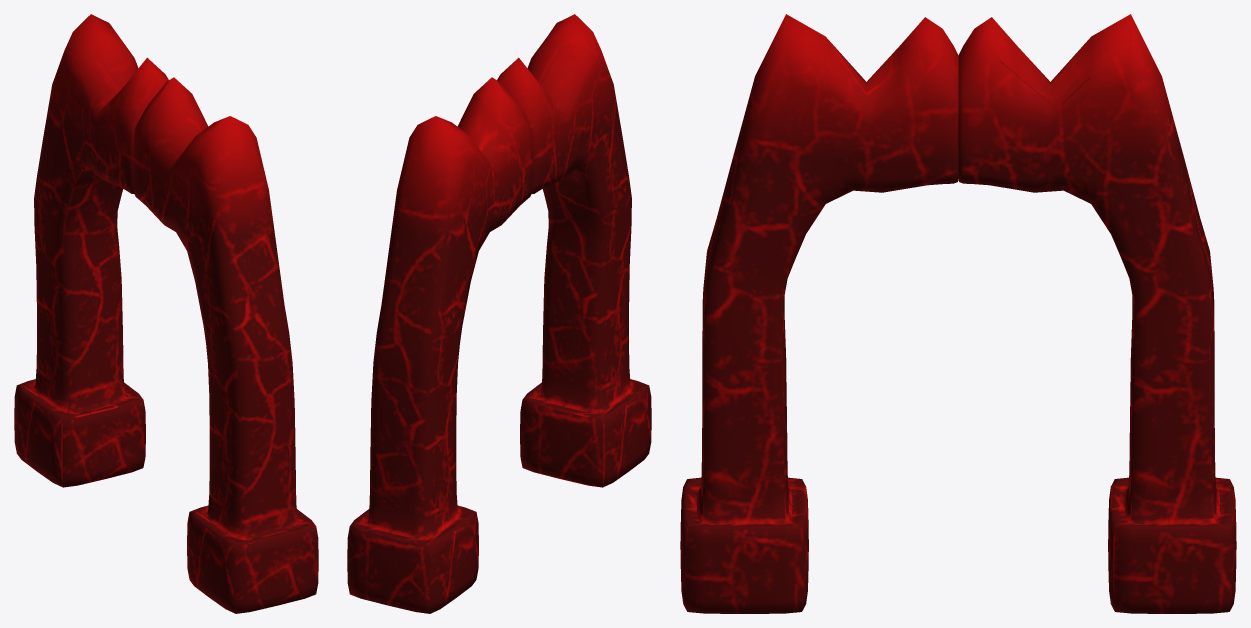
Rendered from HellGate.fbx.
3 views of the same model, side by side, from view 1: azimuth 30°, elevation 25°; view 2: azimuth 150°, elevation 25°; view 3: azimuth 270°, elevation 25° (orthographic). The views are drawn at different scales.
Visible parts, largest first — view 1: HellGate; view 2: HellGate; view 3: HellGate.
Boxes of the visible parts, x1,y1,x2,y2 form: HellGate: (14,14,318,613); HellGate: (347,14,651,613); HellGate: (680,14,1236,613).
Bounding box in the file's own units: 302 × 1484 × 1308.
1 material, 1 textured.
